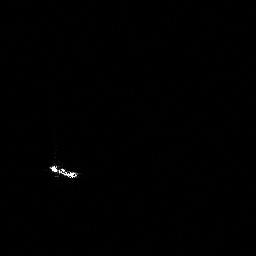ship: (45, 160, 81, 181)
